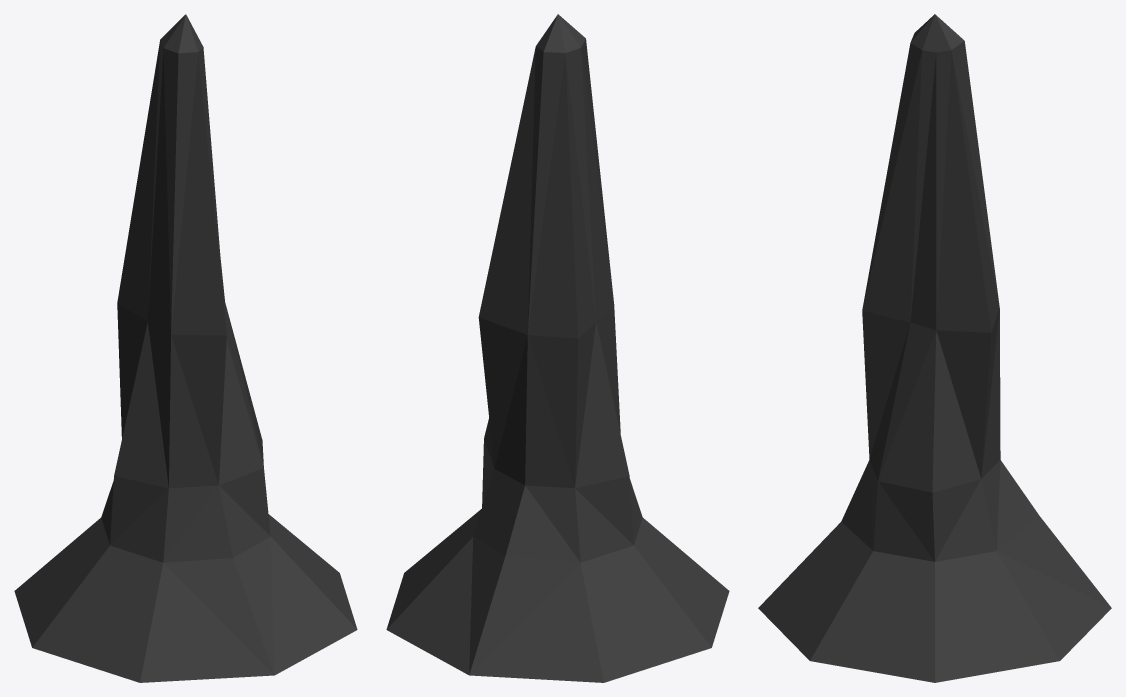
Rendered from Stal_2B.fbx.
The picture shows the model from 3 angles, left to right: view 1: azimuth 30°, elevation 25°; view 2: azimuth 150°, elevation 25°; view 3: azimuth 270°, elevation 25°; orthographic projection.
Visible parts, largest first — view 1: pCone28; view 2: pCone28; view 3: pCone28.
Boxes of the visible parts, x1,y1,x2,y2 form: pCone28: (14,14,357,682); pCone28: (386,14,729,682); pCone28: (758,14,1111,682).
Size of the model in its own units: 0.81 by 1.5 by 0.81.
